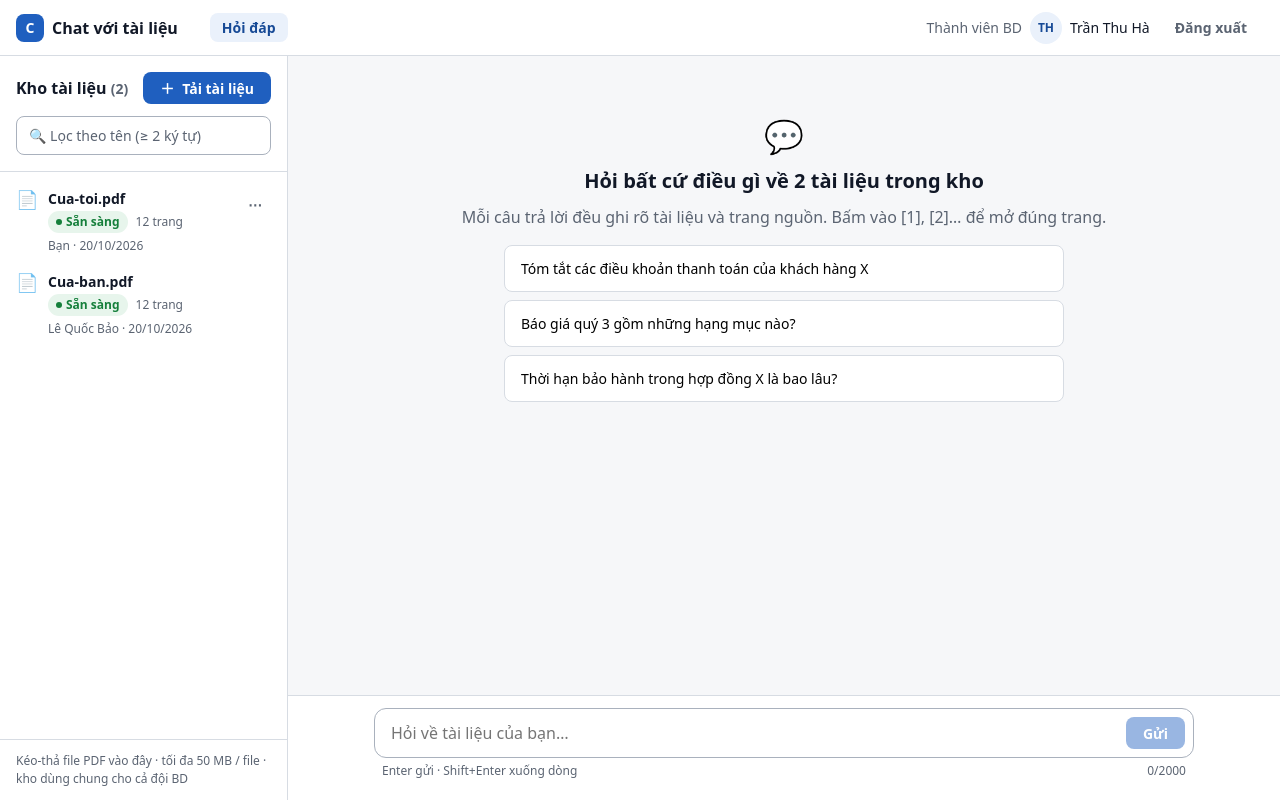
Scenario: US-204 remove › menu item only when canRemove; dialog focuses Huỷ; confirm removes at once and toasts (AC-204.1, AC-204.2)
Check: the text "Cua-ban.pdf" is shown, box top-left (48, 272), bottom-right (133, 291)
What coordinates should you click on to do the following:
click the button named "Tuỳ chọn cho Cua-toi.pdf"
I would click on:
 (255, 204)
Its box is top-left (239, 188), bottom-right (271, 220).
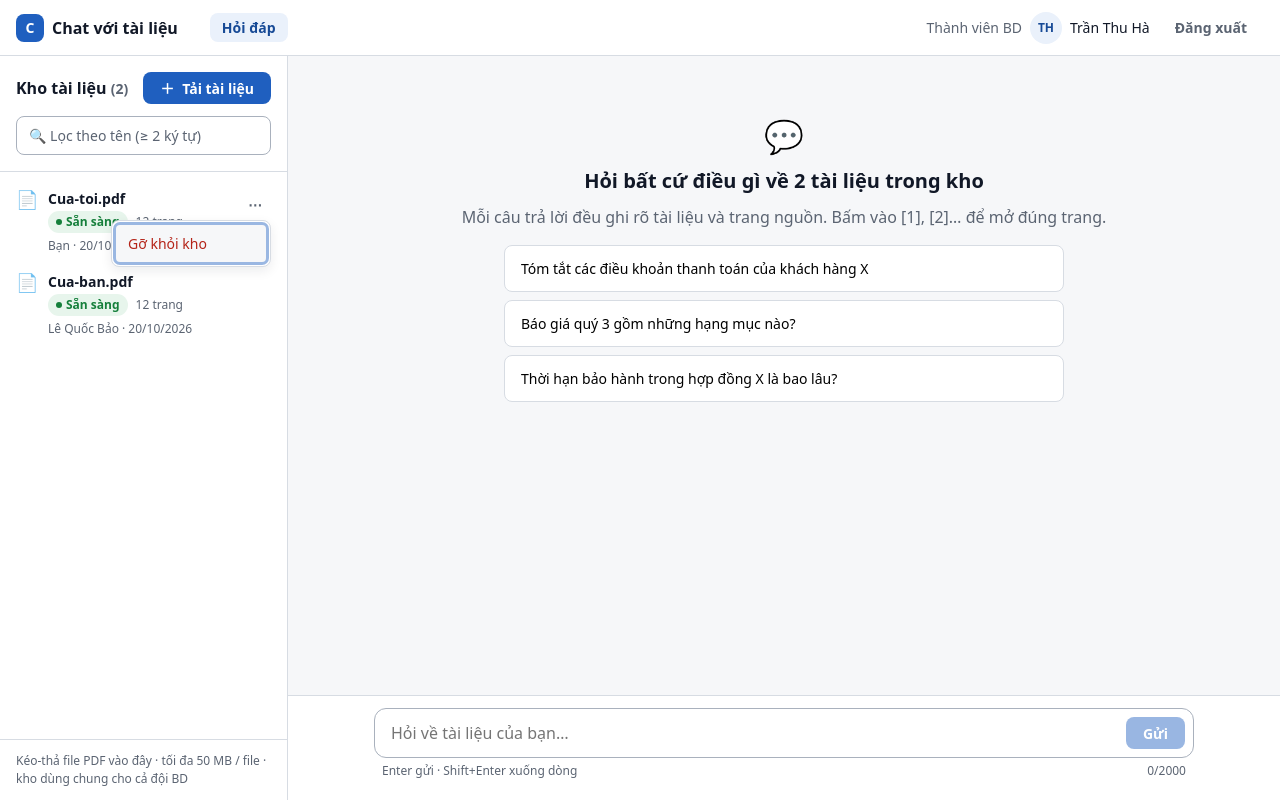
What coordinates should you click on to do the following:
click the menu item "Gỡ khỏi kho"
I would click on:
 (191, 244)
Its box is top-left (116, 225), bottom-right (266, 262).
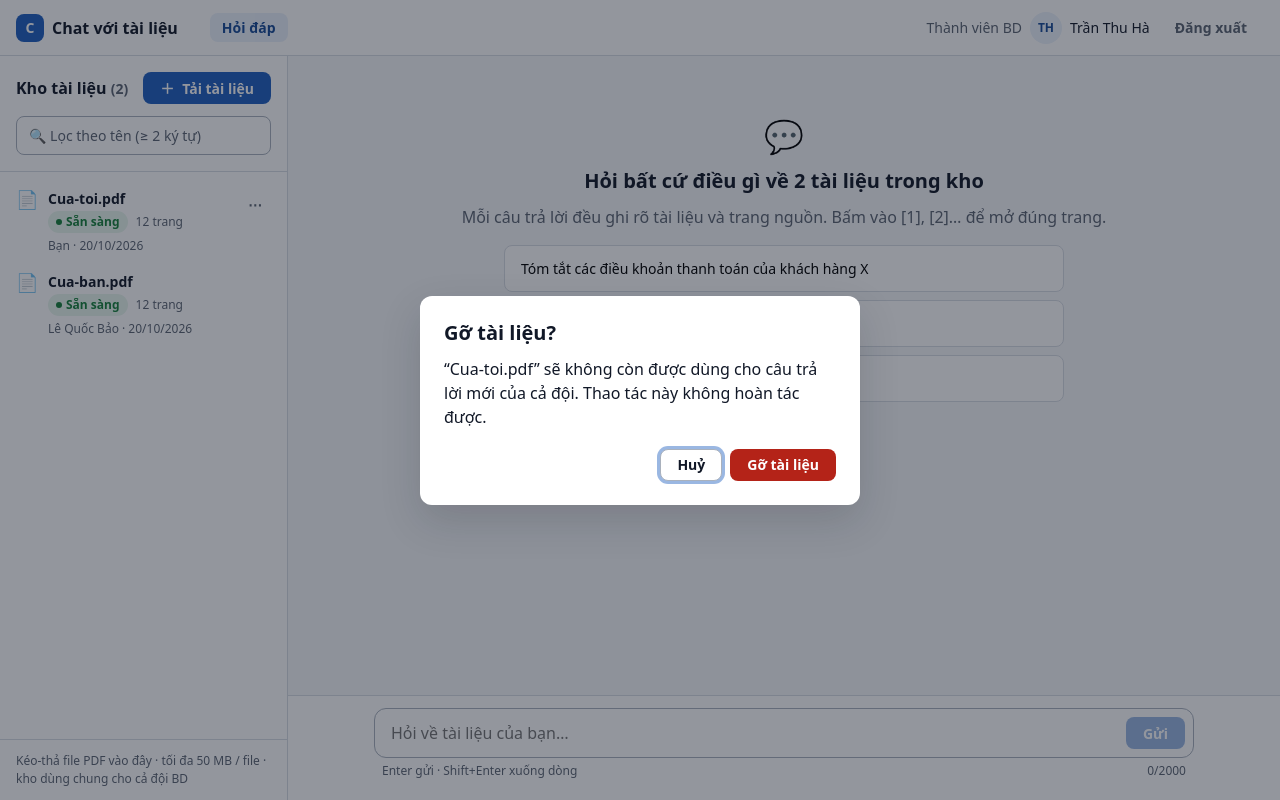
Check: the dialog "Gỡ tài liệu?" shows "sẽ không còn được dùng cho câu trả lời mới của cả đội", box top-left (444, 358), bottom-right (817, 428)
What coordinates should you click on to do the following:
click the button "Gỡ tài liệu"
I would click on:
 (783, 464)
Its box is top-left (730, 448), bottom-right (836, 480).
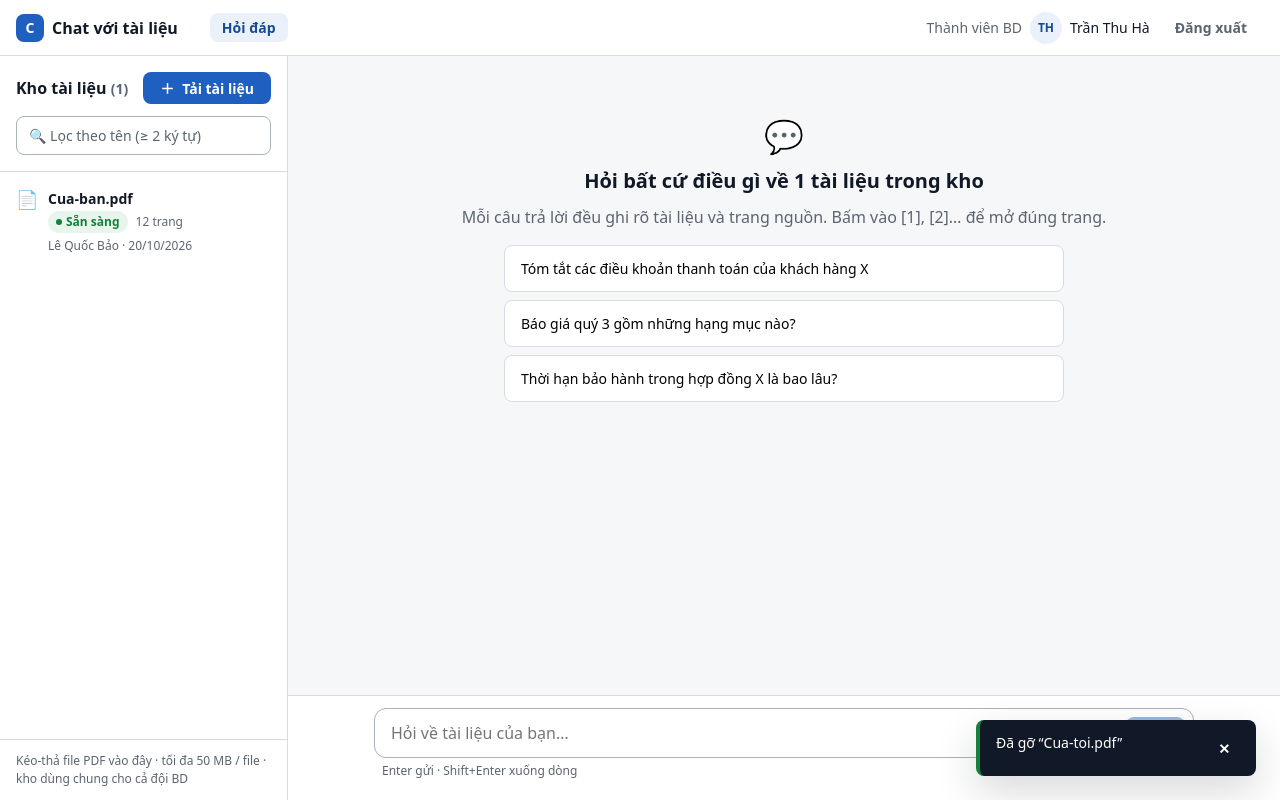
Check: the text "Đã gỡ “Cua-toi.pdf”" is shown, box top-left (996, 732), bottom-right (1122, 753)
